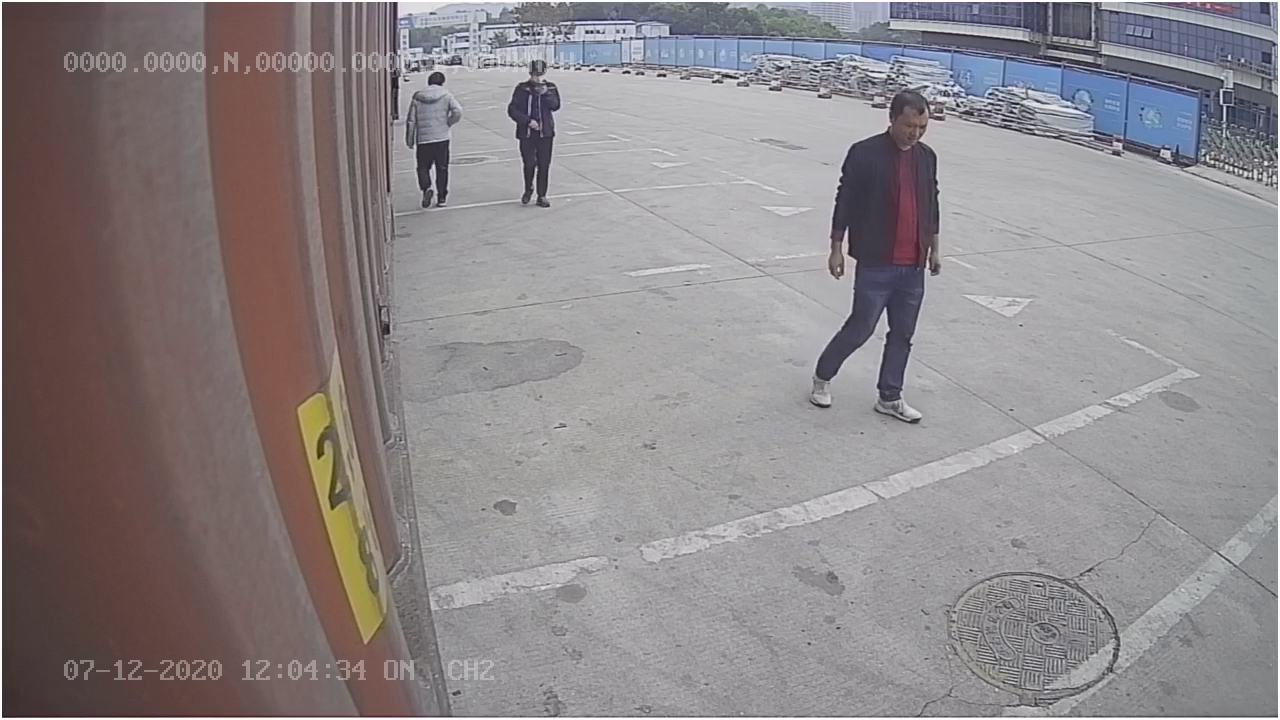person: (809, 91, 946, 425)
